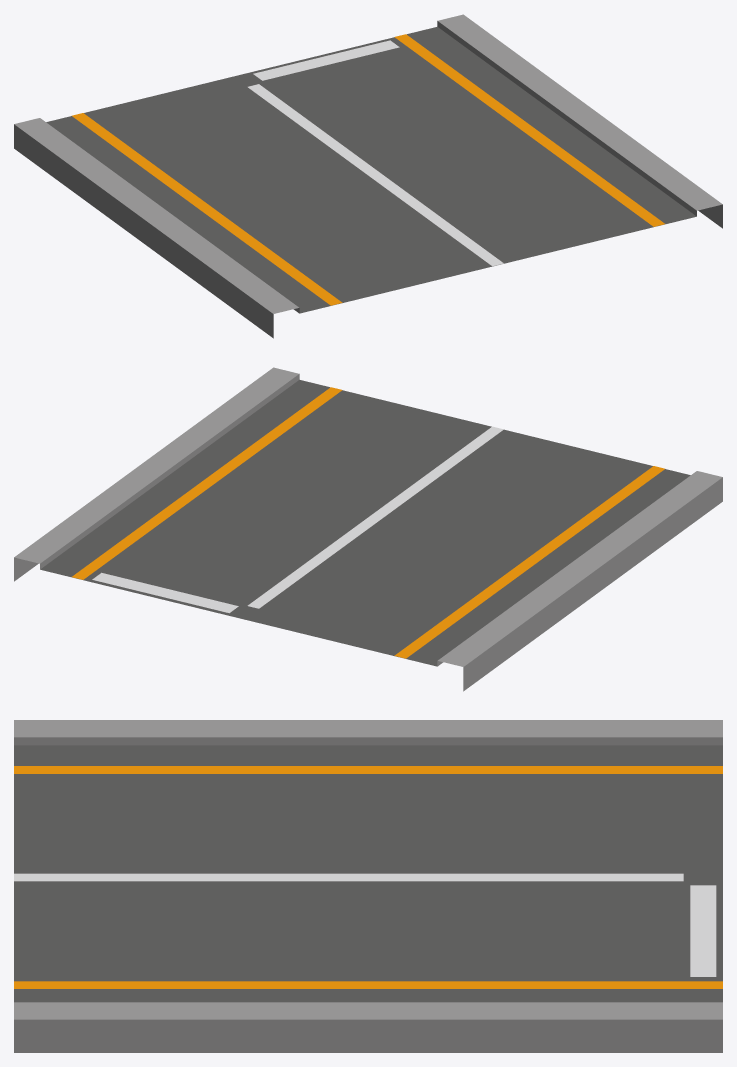
The model's file is Road_B_15.glb.
The picture shows the model from 3 angles, top to bottom: view 1: azimuth 30°, elevation 25°; view 2: azimuth 150°, elevation 25°; view 3: azimuth 270°, elevation 25°; orthographic projection. The views are drawn at different scales.
Parts seen in each view (by area): view 1: Road_B_15; view 2: Road_B_15; view 3: Road_B_15.
Boxes of the visible parts, x1=… form: Road_B_15: x1=14, y1=14, x2=722, y2=338; Road_B_15: x1=14, y1=367, x2=722, y2=691; Road_B_15: x1=14, y1=720, x2=722, y2=1052.
Bounding box in the file's own units: 8 × 0.4148 × 8.
1 material, 1 textured.
